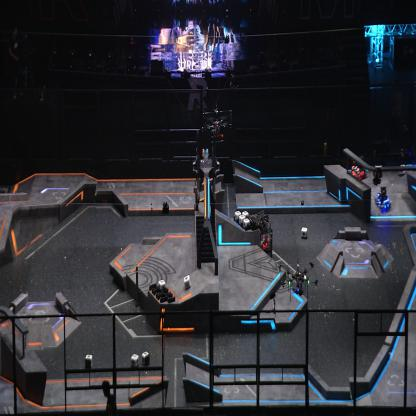car: (248, 213, 273, 254), (348, 152, 368, 180), (374, 186, 393, 212)
